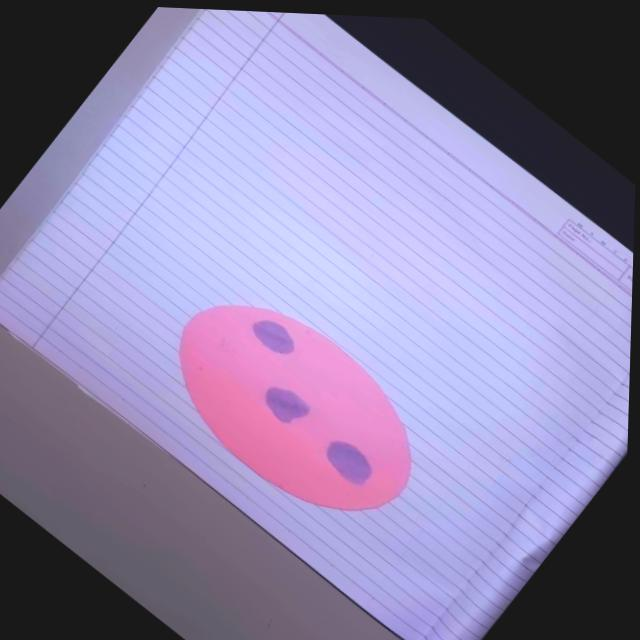BlueColor: (326, 441, 371, 485), (264, 387, 308, 422), (252, 320, 292, 352)
